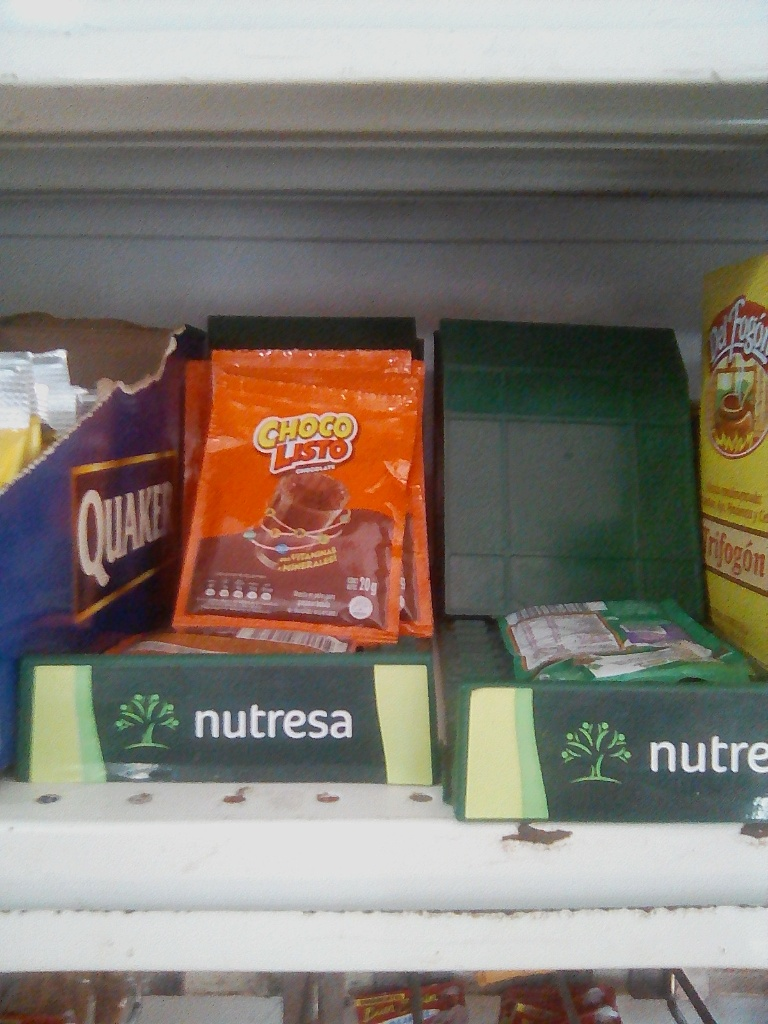COL0170103SOB02000: (168, 333, 418, 638)
